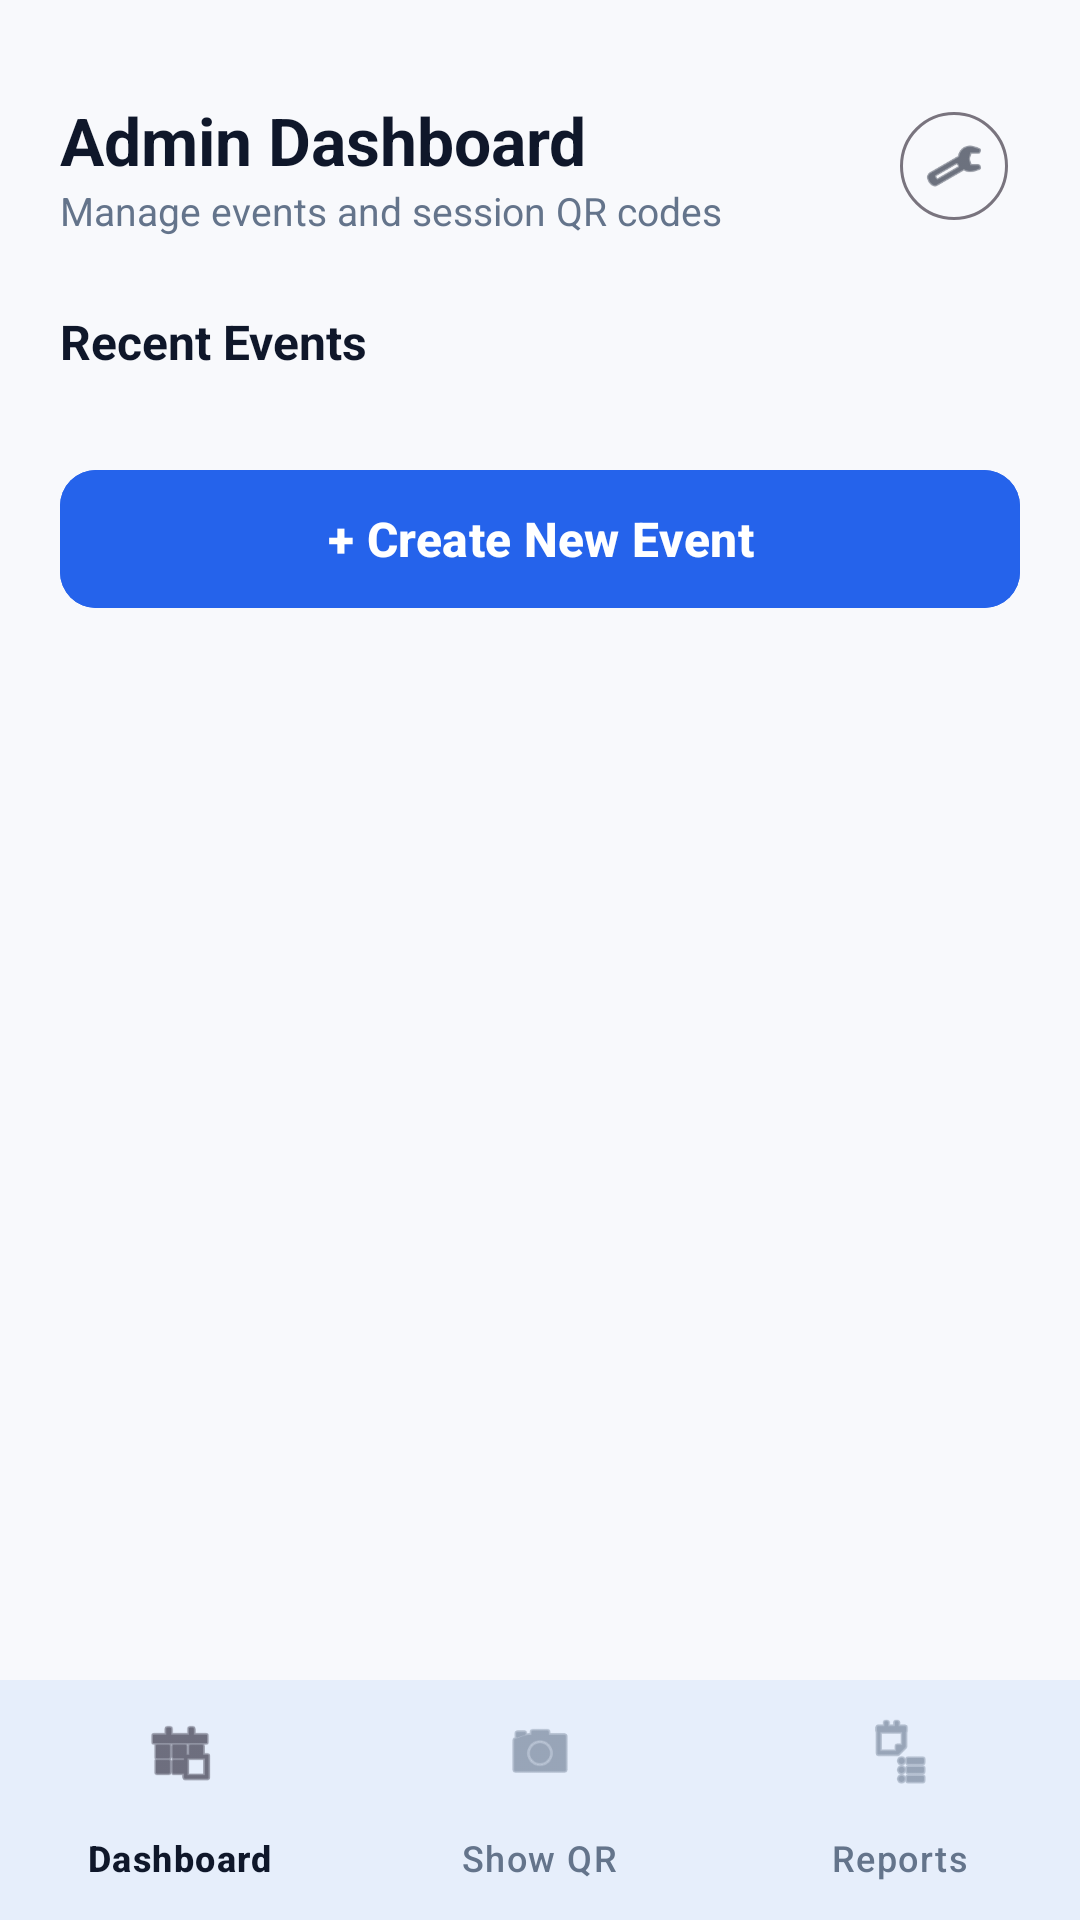

Icon bounding boxes for this 1080px x 1920px phone screenshot, format bbox=[x1, y1, x2, y2]:
preferences: bbox=[900, 112, 1008, 220]
